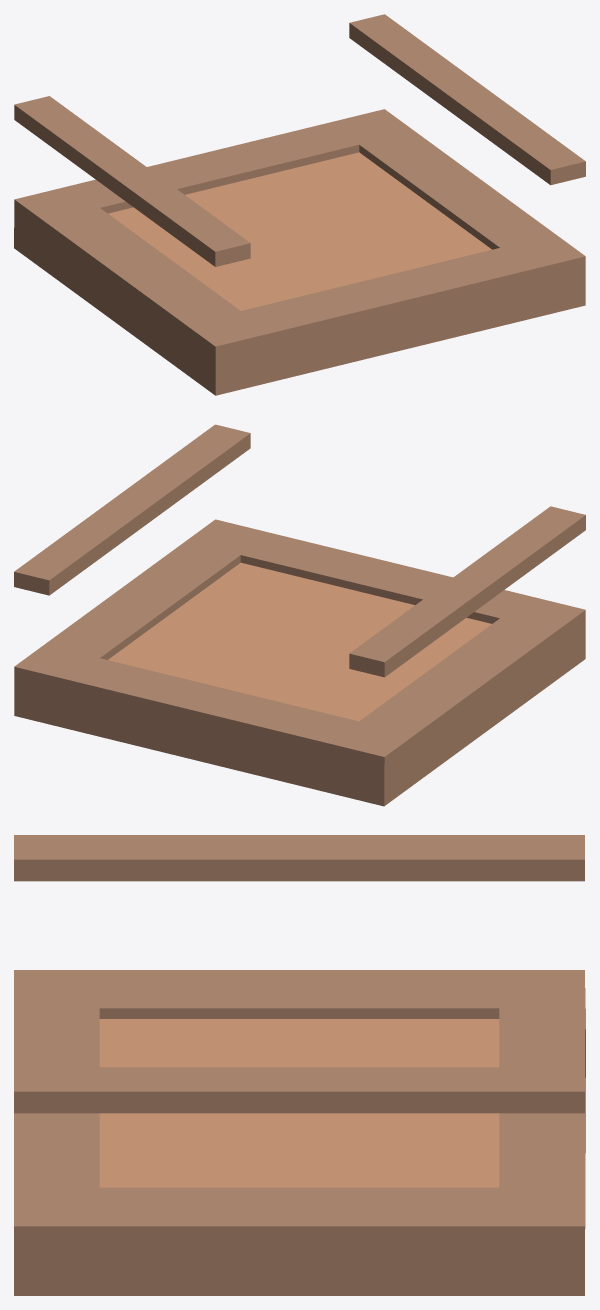
Rendered from bridge_3_part_4.fbx.
3 renders of one model, top to bottom at view 1: azimuth 30°, elevation 25°; view 2: azimuth 150°, elevation 25°; view 3: azimuth 270°, elevation 25°, orthographic. The views are drawn at different scales.
Parts seen in each view (by area): view 1: bridge_3_part_4; view 2: bridge_3_part_4; view 3: bridge_3_part_4.
Boxes of the visible parts, x1,y1,x2,y2 form: bridge_3_part_4: (14,14,585,395); bridge_3_part_4: (14,424,585,806); bridge_3_part_4: (14,835,585,1295).
Size of the model in its own units: 10.21 by 3.79 by 9.62.
